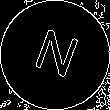N_S: (28, 24, 82, 86)
